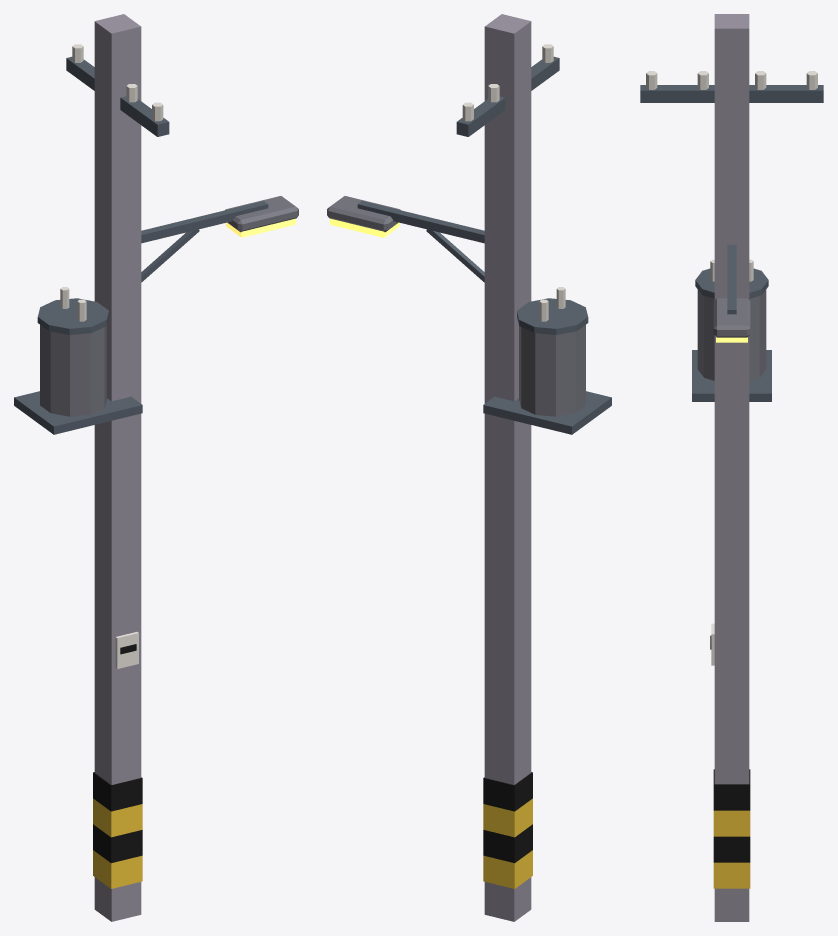
Rendered from street_lamp.glb.
The picture shows the model from 3 angles, left to right: view 1: azimuth 30°, elevation 25°; view 2: azimuth 150°, elevation 25°; view 3: azimuth 270°, elevation 25°; orthographic projection.
Visible parts, largest first — view 1: lamp, lamp_tx; view 2: lamp, lamp_tx; view 3: lamp, lamp_tx.
Boxes of the visible parts, box(x1,y1,x2,y2) form: lamp: box(66, 14, 298, 921); lamp_tx: box(14, 287, 142, 434); lamp: box(327, 14, 559, 921); lamp_tx: box(483, 287, 611, 434); lamp: box(640, 14, 823, 921); lamp_tx: box(692, 259, 771, 401).
Size of the model in its own units: 2.61 by 8.6 by 1.6.
